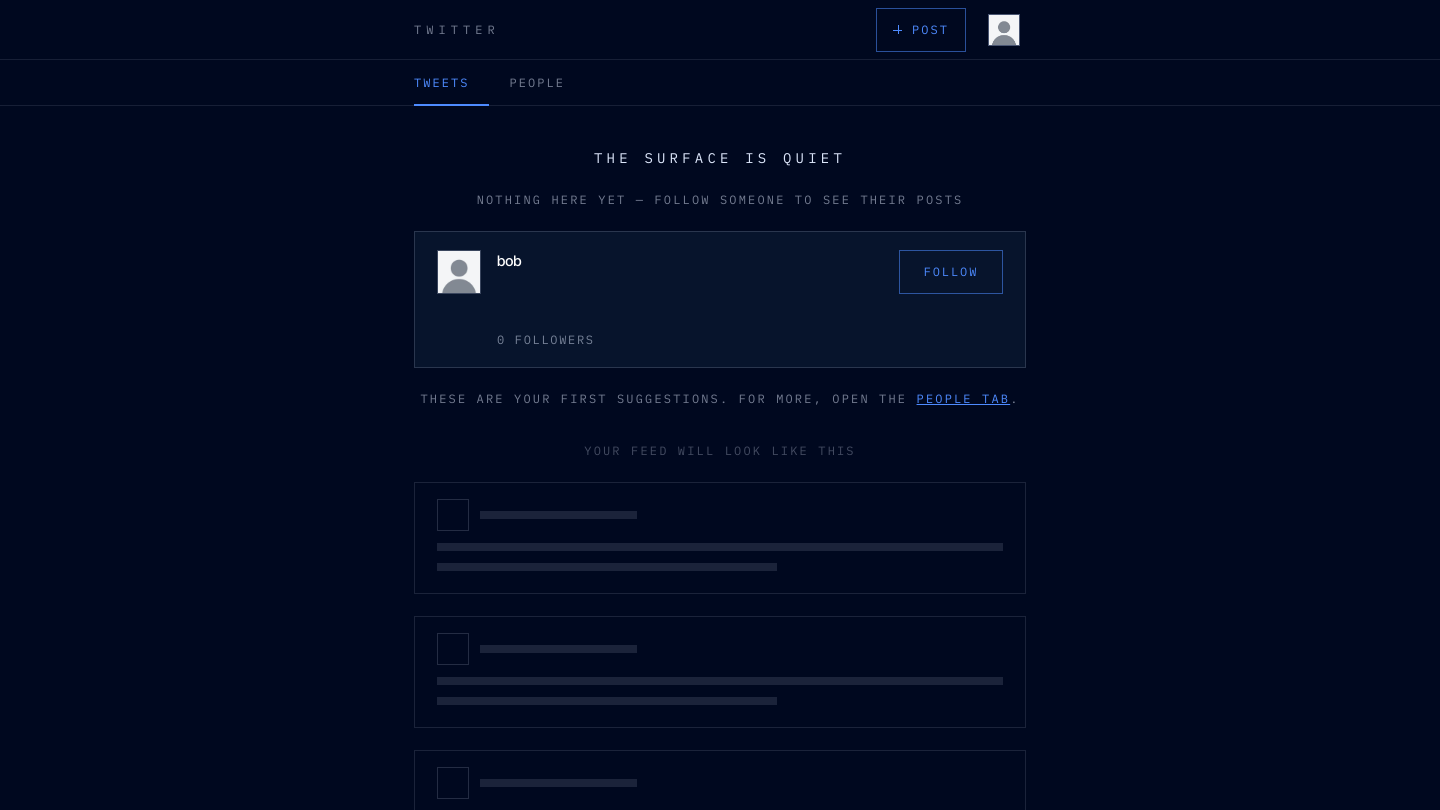
Test: the empty feed panel › should_show_the_posts_of_a_followed_suggestion_at_once_without_waiting_for_the_back_fill
Click the button with aria-label "Follow bob" at x=951, y=272, box [899, 250, 1003, 294]
Wait 2 ms
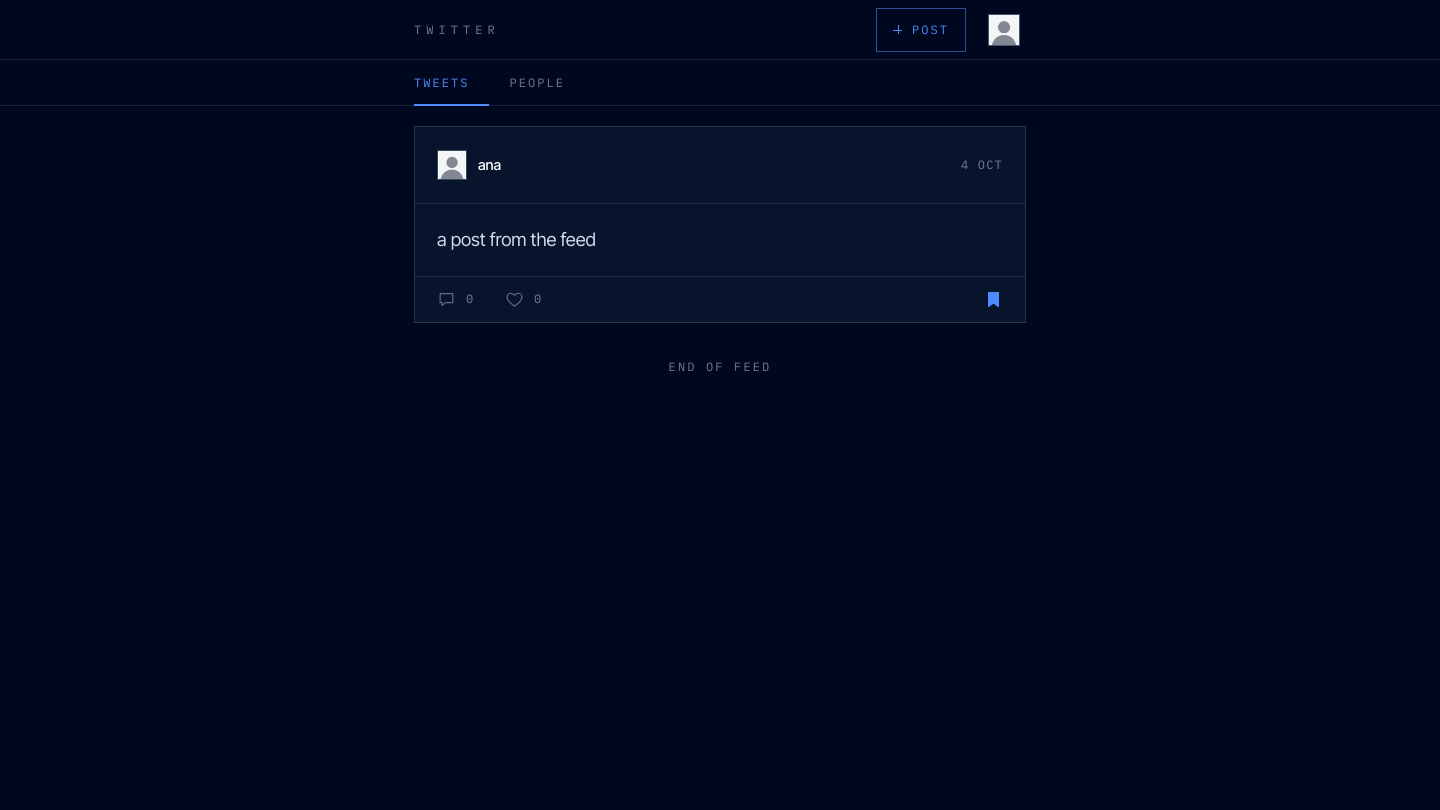
Expected: the text "a post from the feed" is shown, [437, 228, 596, 250]
Expected: the heading "THE SURFACE IS QUIET" is gone
